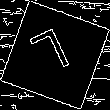L_SE: (30, 26, 80, 84)
